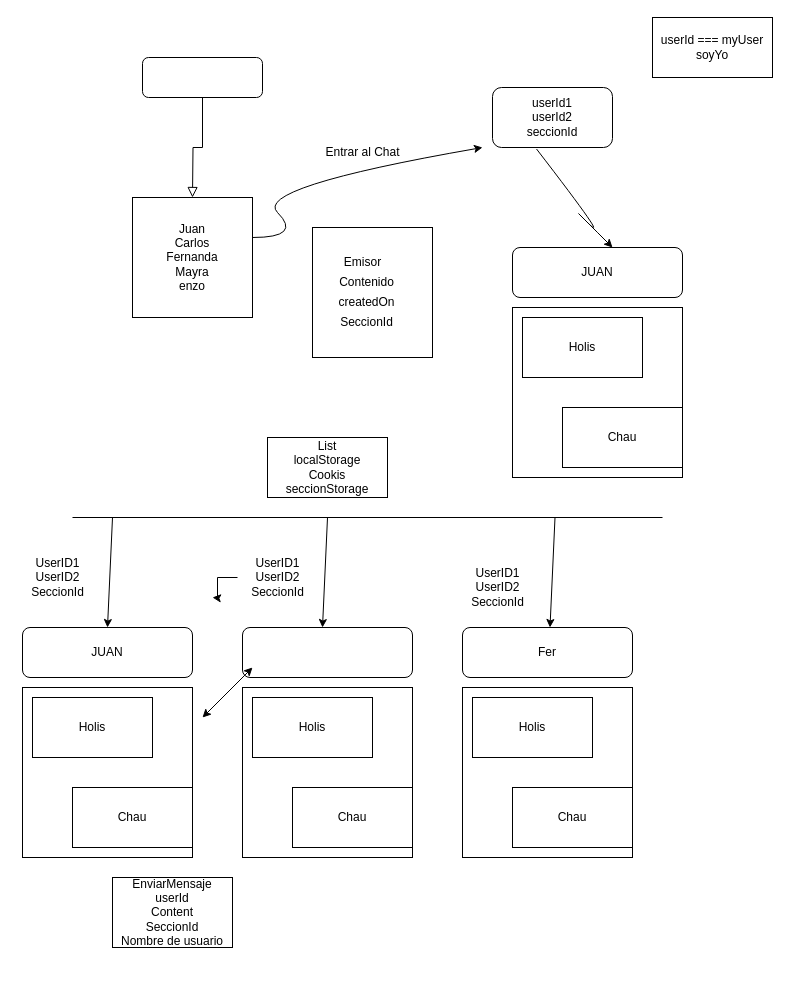
Some shapes in this 790 by 993 pixel diagram are drawn without their labels. The shapes that lost their labels are listed below. From the top down, each one's box as (x1, y1, x2, y2) in pixels, then its label:
(142, 56, 262, 98): Chats
(242, 626, 412, 678): May
